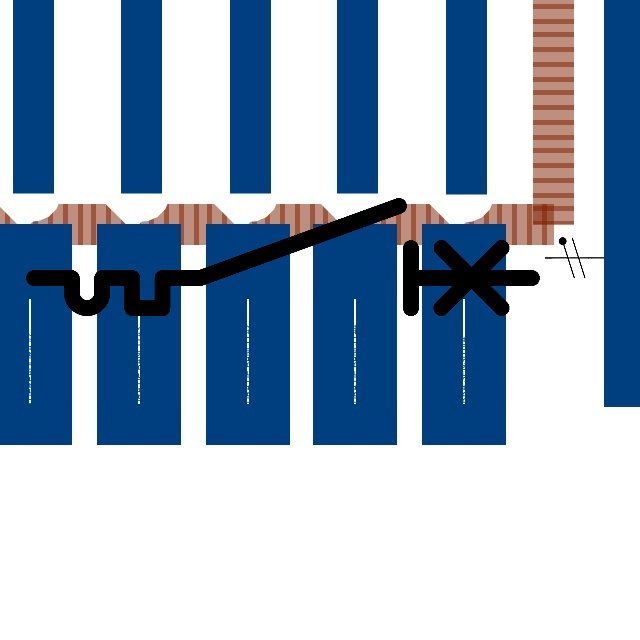interruptor_termomagnetico: (21, 193, 544, 321)
